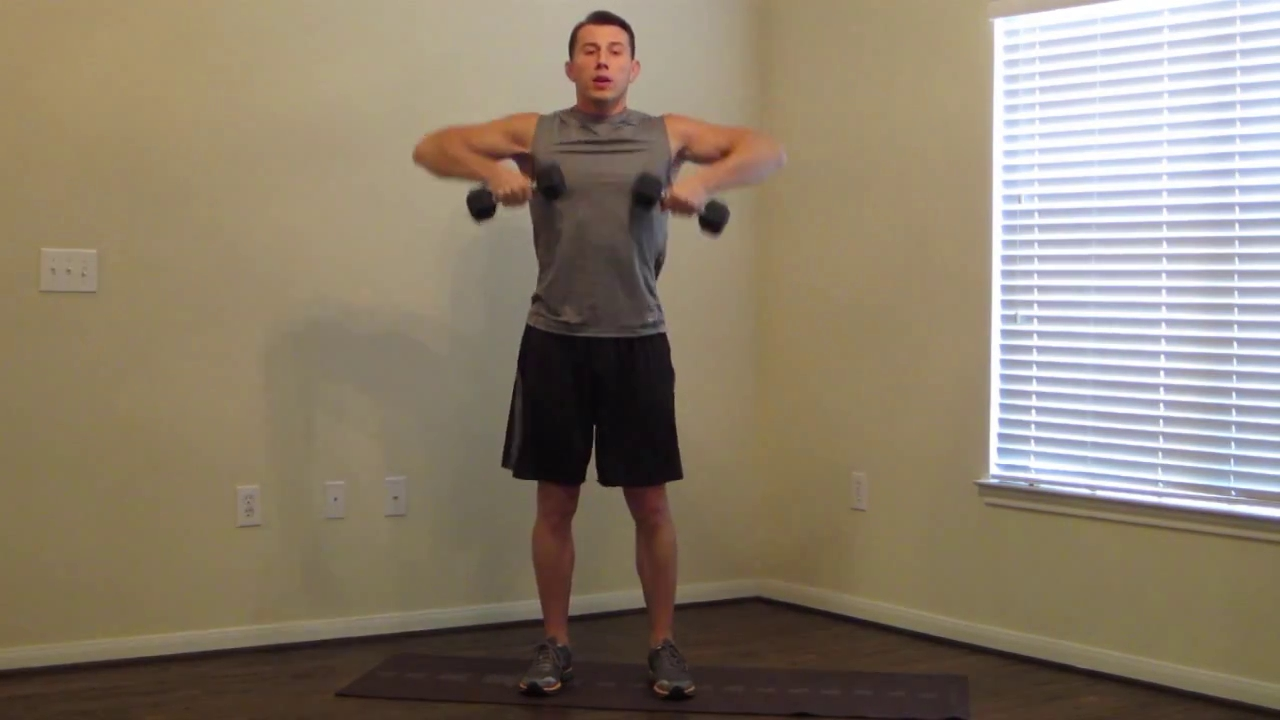left-lower-arm: (433, 129, 483, 187)
left-lower-leg: (531, 501, 581, 640)
left-upper-arm: (460, 83, 510, 194)
left-upper-leg: (537, 315, 587, 502)
right-lower-arm: (693, 94, 743, 188)
right-lower-leg: (620, 318, 670, 518)
right-upper-arm: (710, 136, 760, 201)
right-upper-leg: (634, 517, 684, 636)
